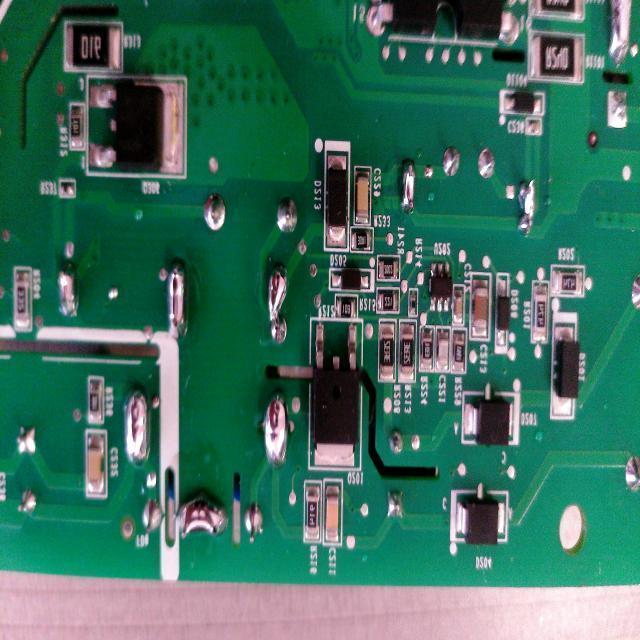Soldering bridge: (170, 490, 232, 546), (163, 254, 197, 346), (258, 384, 292, 475), (121, 390, 154, 473), (264, 260, 294, 350), (508, 170, 540, 239), (54, 264, 82, 320), (397, 154, 418, 214)
